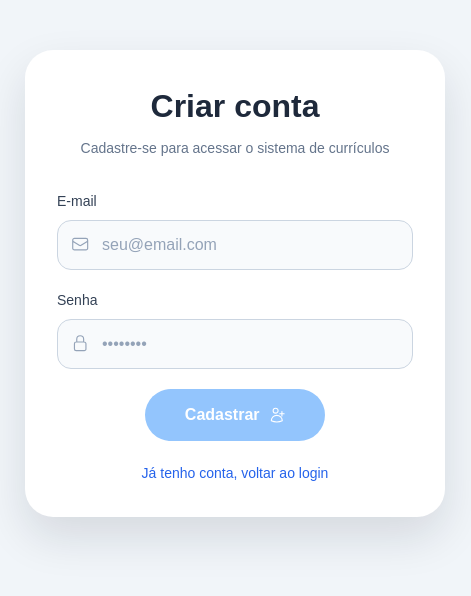
it: CadastroPage › creates the login and shows a success message for a new email
This screenshot has width=471, height=596.
In the field labelled "E-mail": (235, 244) [57, 220, 413, 270], type "new@example.com"
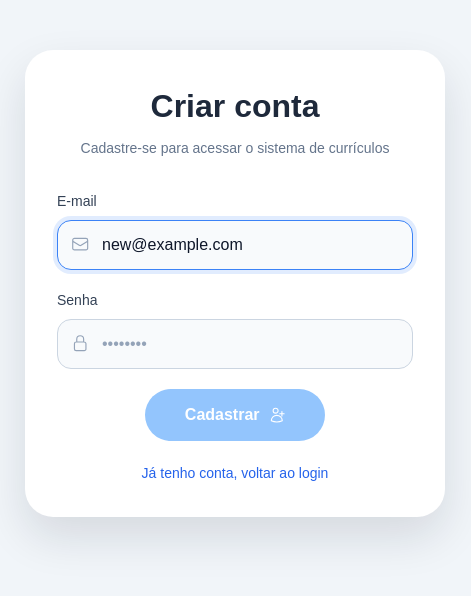
In the password field labelled "Senha": (235, 344) [57, 318, 413, 368], type "123456"
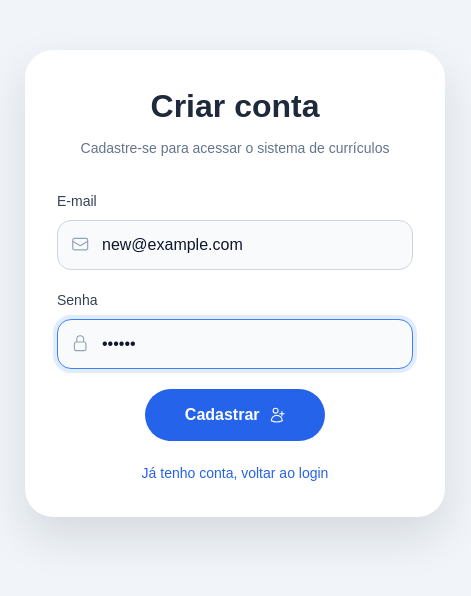
Click the button "Cadastrar": (235, 414) [145, 388, 325, 440]
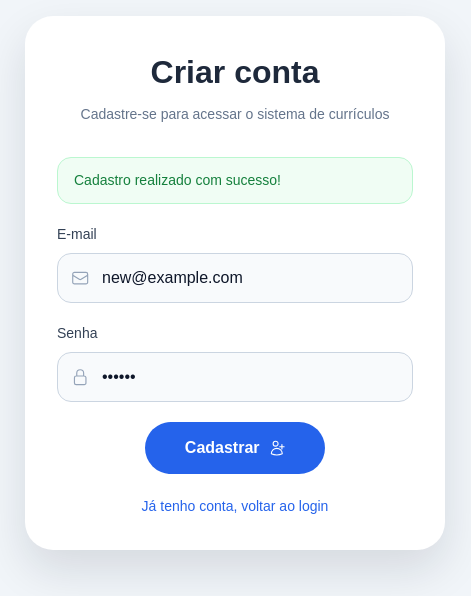
Check: the text "Cadastro realizado com sucesso!" is shown, box [57, 157, 413, 204]
